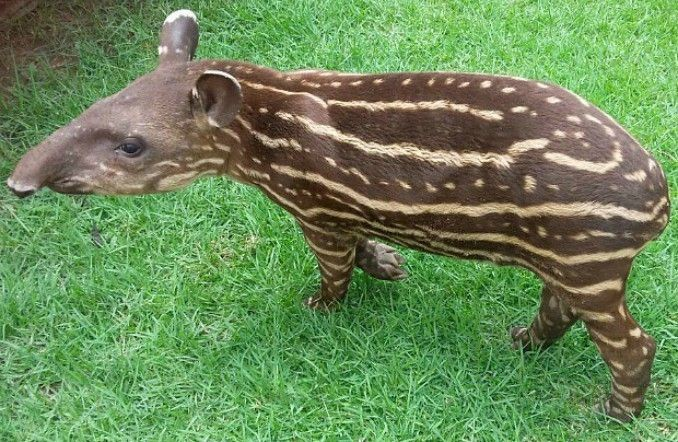Anta: (4, 6, 670, 421)
